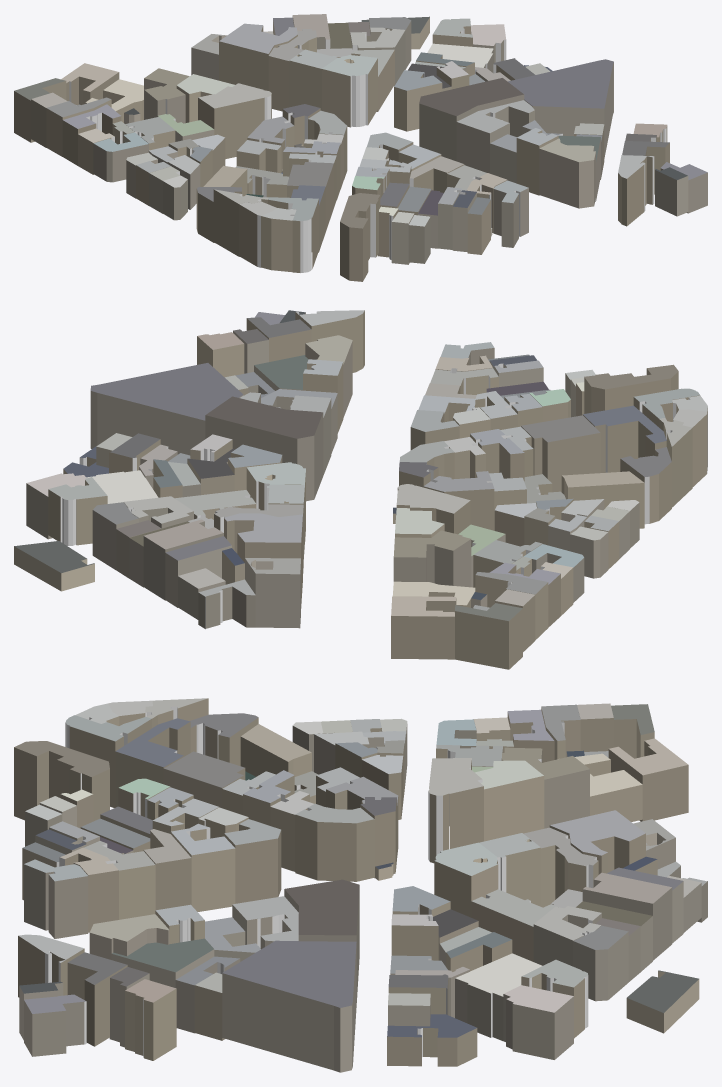
The picture shows the model from 3 angles, top to bottom: view 1: azimuth 30°, elevation 25°; view 2: azimuth 150°, elevation 25°; view 3: azimuth 270°, elevation 25°; orthographic projection. The views are drawn at different scales.
Visible parts, largest first — view 1: tuile; view 2: tuile; view 3: tuile.
Boxes of the visible parts, x1,y1,x2,y2 form: tuile: (14, 14, 707, 281); tuile: (14, 310, 707, 669); tuile: (14, 698, 707, 1072).
Bounding box in the file's own units: 275 × 42.24 × 266.
